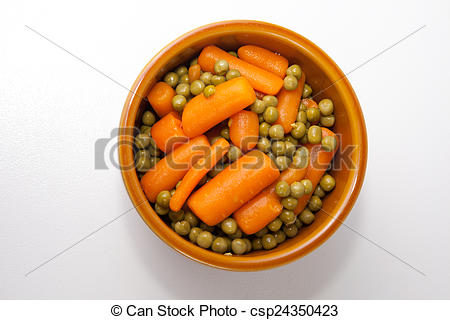boiled peas: (146, 66, 333, 246)
